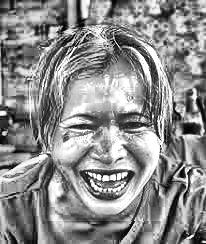happy: (40, 48, 166, 222)
